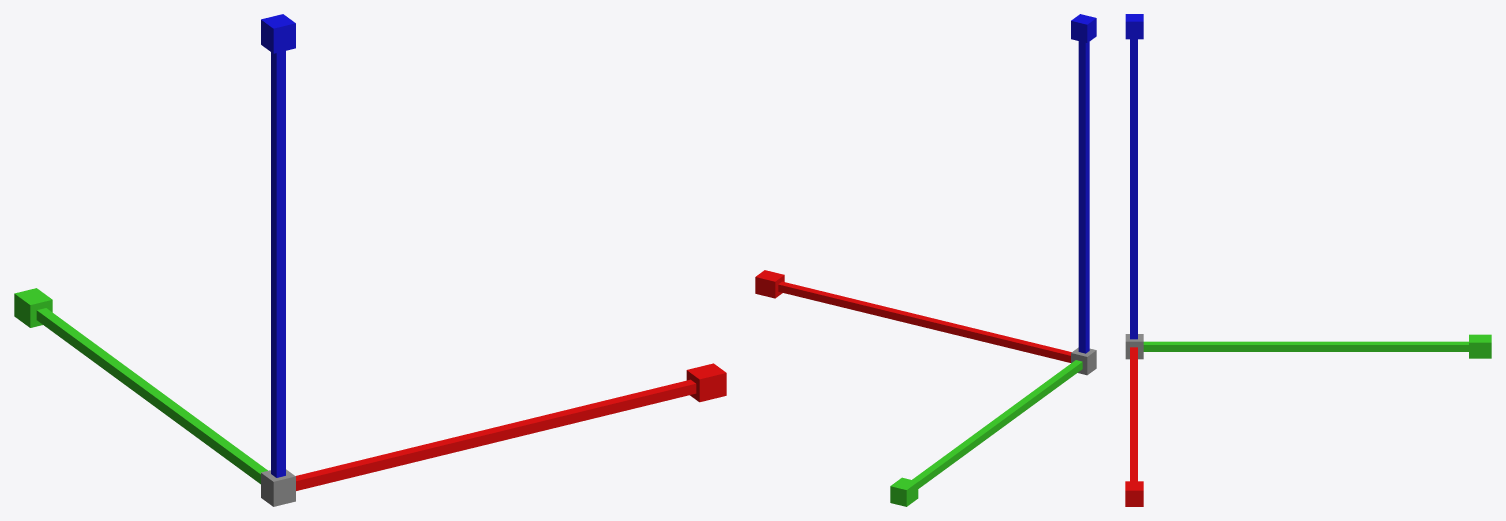
3 renders of one model, left to right at view 1: azimuth 30°, elevation 25°; view 2: azimuth 150°, elevation 25°; view 3: azimuth 270°, elevation 25°, orthographic. The views are drawn at different scales.
Parts seen in each view (by area): view 1: Line002, Object003, Object002, Object004; view 2: Object003, Line002, Object002, Object004; view 3: Object002, Object003, Line002.
Part boxes in pixels (left/top/right/bottom): Line002: left=296, top=363, right=726, bottom=490; Object003: left=261, top=14, right=295, bottom=477; Object002: left=14, top=288, right=267, bottom=484; Object004: left=261, top=469, right=295, bottom=506; Object003: left=1071, top=14, right=1096, bottom=353; Line002: left=755, top=270, right=1071, bottom=362; Object002: left=890, top=360, right=1082, bottom=506; Object004: left=1071, top=347, right=1096, bottom=375; Object002: left=1143, top=334, right=1491, bottom=358; Object003: left=1125, top=14, right=1143, bottom=339; Line002: left=1125, top=347, right=1143, bottom=506.
Size of the model in its own units: 95.26 by 94.48 by 96.12.
